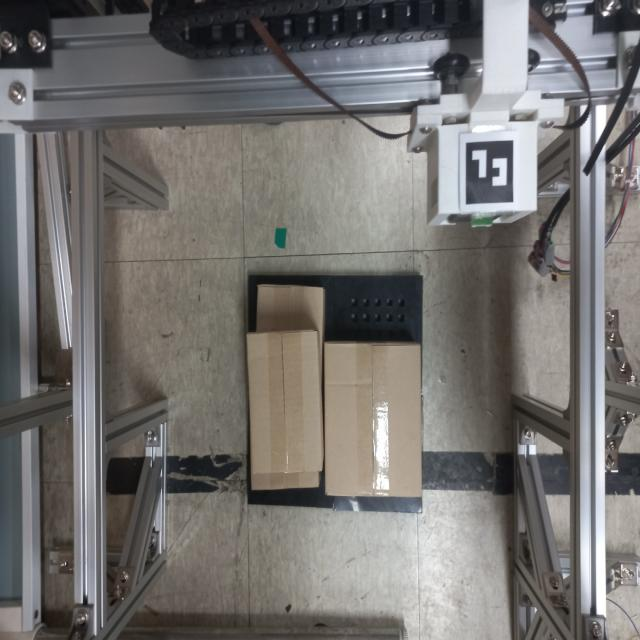box: (322, 338, 426, 501), (243, 325, 324, 477)
